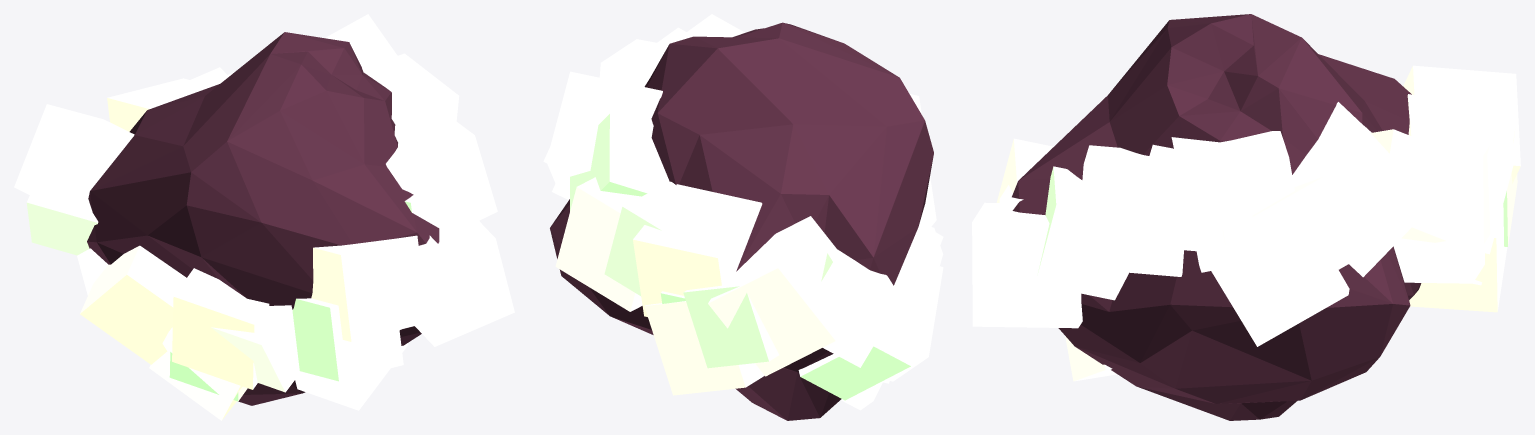
The model's file is UraniumFuelDeposit.fbx.
3 views of the same model, side by side, from view 1: azimuth 30°, elevation 25°; view 2: azimuth 150°, elevation 25°; view 3: azimuth 270°, elevation 25° (orthographic). The views are drawn at different scales.
Parts seen in each view (by area): view 1: Asteroid3.001; view 2: Asteroid3.001; view 3: Asteroid3.001.
Boxes of the visible parts, x1,y1,x2,y2 form: Asteroid3.001: [14, 14, 514, 420]; Asteroid3.001: [543, 14, 943, 420]; Asteroid3.001: [972, 14, 1520, 420].
Bounding box in the file's own units: 283 × 263 × 320.
